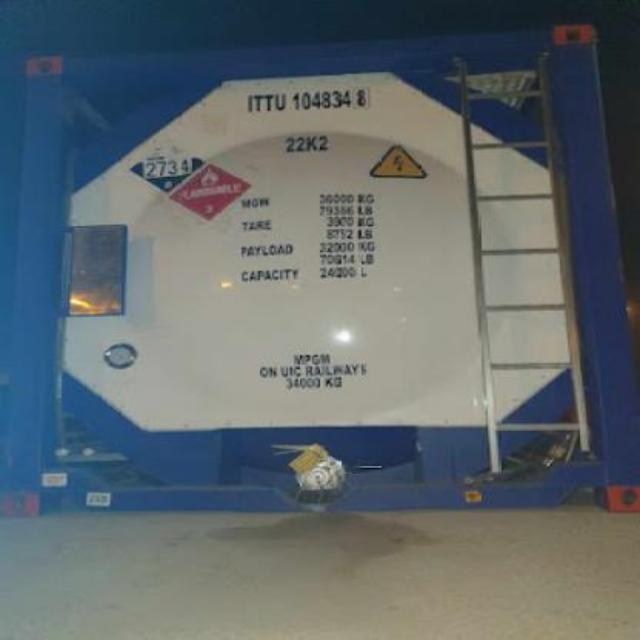0: (302, 91, 312, 111)
1: (292, 92, 302, 112)
3: (330, 86, 342, 110)
4: (341, 84, 354, 112), (310, 91, 322, 109)
8: (356, 87, 374, 113), (322, 88, 332, 112)
I: (248, 94, 252, 112)
T: (253, 95, 263, 112), (264, 95, 274, 112)
U: (274, 92, 286, 111)
